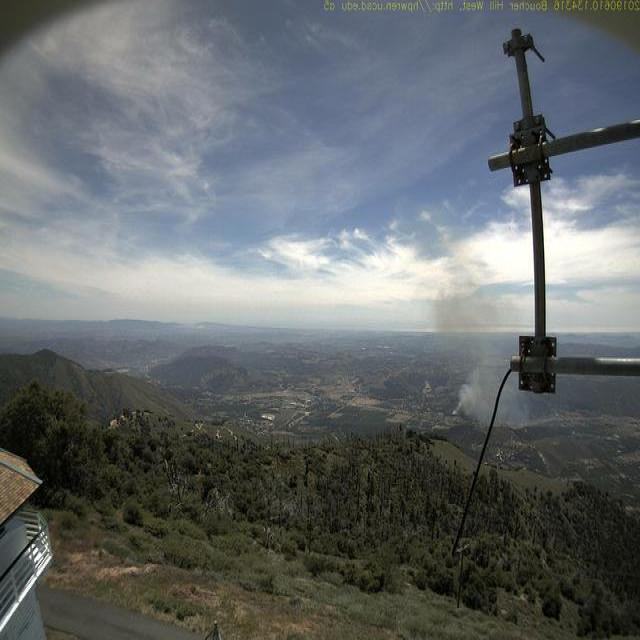Smoke: (429, 242, 513, 422)
